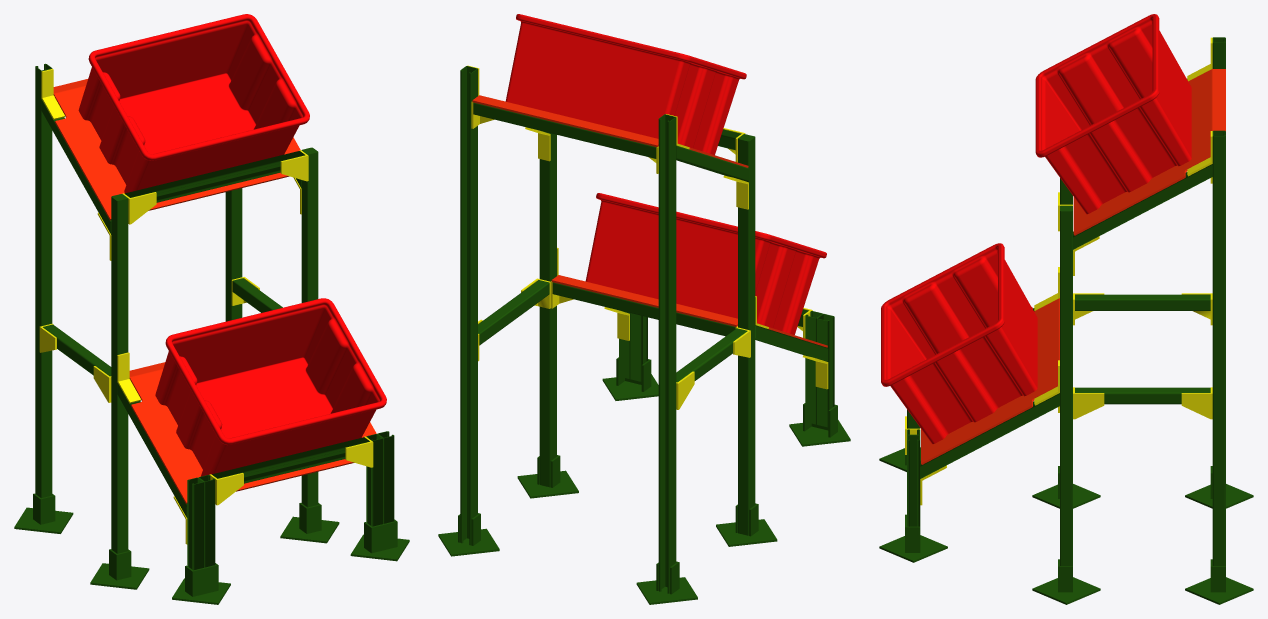
File: BinStandAssy-001.FBX
3 renders of one model, left to right at view 1: azimuth 30°, elevation 25°; view 2: azimuth 150°, elevation 25°; view 3: azimuth 270°, elevation 25°, orthographic. The views are drawn at different scales.
Visible parts, largest first — view 1: BinFrame, Bin, Bin001, BinFrame2, BinStandPlate1, BinStandPlate2; view 2: BinFrame, Bin, Bin001, BinFrame2, BinStandPlate1, BinStandPlate2; view 3: BinFrame, Bin001, Bin, BinStandPlate1, BinStandPlate2, BinFrame2.
Boxes of the visible parts, x1=… form: BinFrame: x1=14, y1=63, x2=409, y2=604; Bin: x1=78, y1=14, x2=309, y2=193; Bin001: x1=155, y1=298, x2=386, y2=476; BinFrame2: x1=39, y1=69, x2=373, y2=544; BinStandPlate1: x1=53, y1=79, x2=300, y2=220; BinStandPlate2: x1=129, y1=362, x2=376, y2=503; BinFrame: x1=438, y1=66, x2=850, y2=604; Bin: x1=505, y1=14, x2=746, y2=155; Bin001: x1=585, y1=193, x2=826, y2=334; BinFrame2: x1=467, y1=65, x2=828, y2=409; BinStandPlate1: x1=472, y1=95, x2=748, y2=167; BinStandPlate2: x1=551, y1=275, x2=827, y2=347; BinFrame: x1=879, y1=37, x2=1253, y2=604; Bin001: x1=881, y1=243, x2=1037, y2=443; Bin: x1=1035, y1=14, x2=1191, y2=214; BinStandPlate1: x1=1073, y1=69, x2=1225, y2=235; BinStandPlate2: x1=921, y1=298, x2=1059, y2=464; BinFrame2: x1=905, y1=37, x2=1212, y2=505.
Size of the model in its own units: 35.86 by 67.23 by 46.38.
